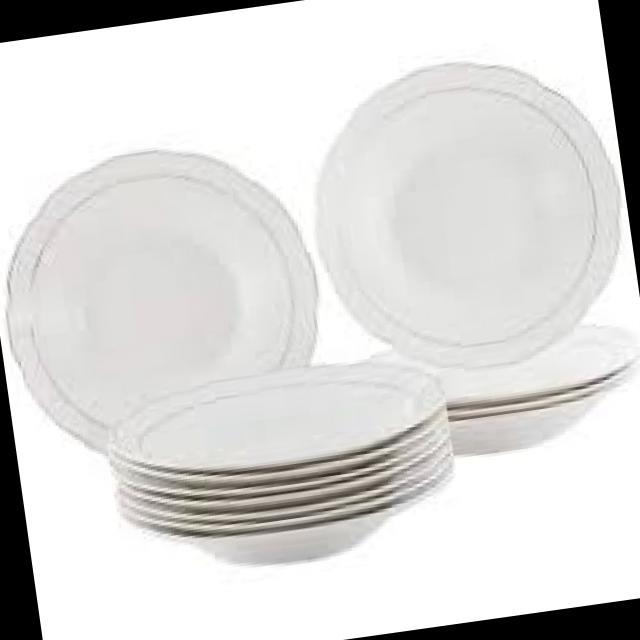plate: (294, 31, 636, 393), (0, 124, 331, 449)
